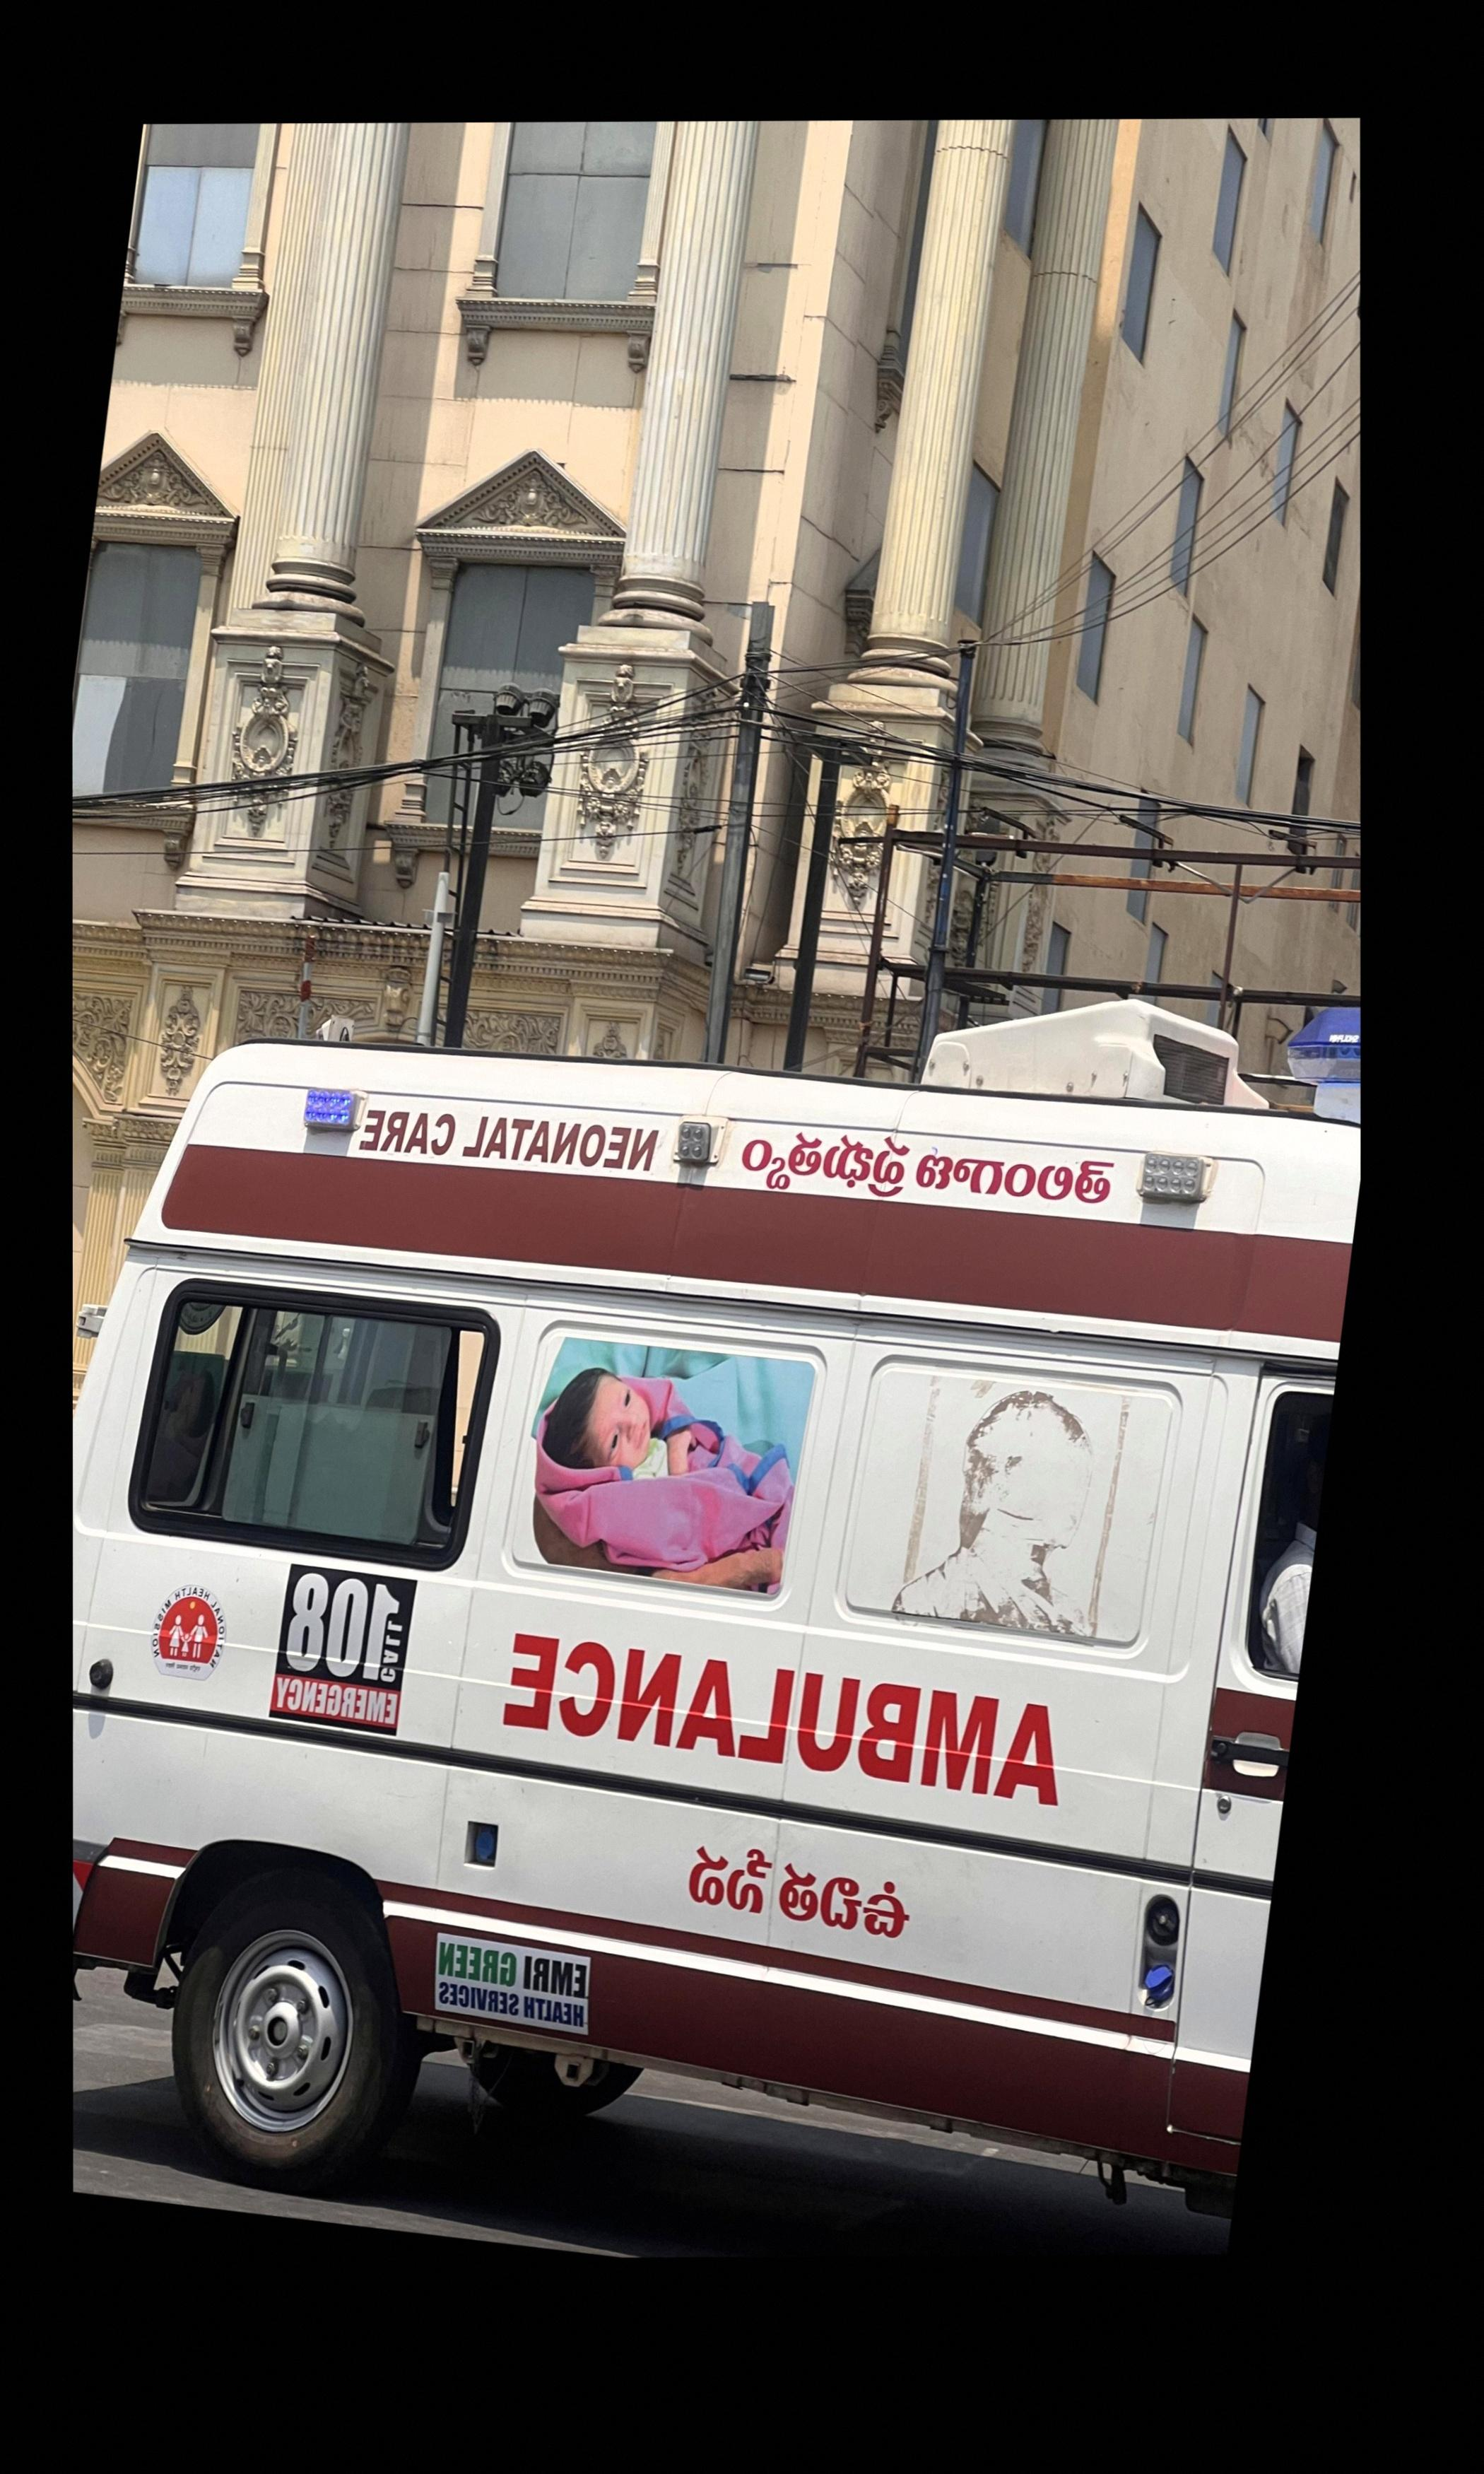ambulance: (72, 1046, 1359, 2220)
